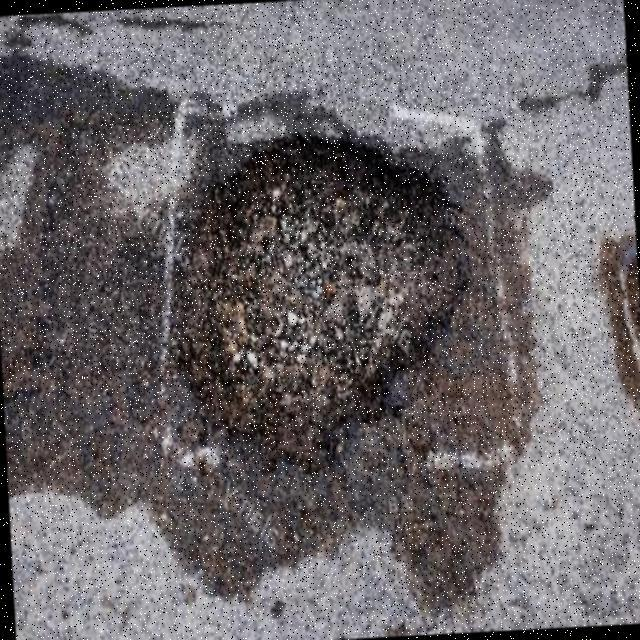Pothole: (169, 138, 472, 461)
